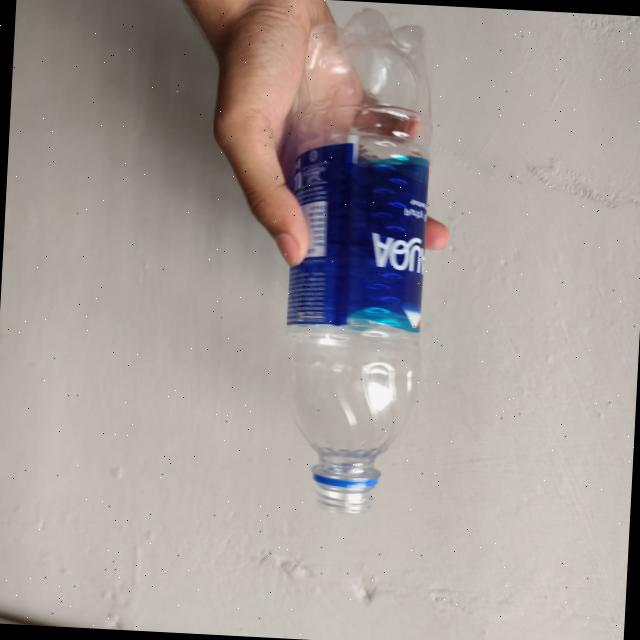bottle: (268, 17, 452, 517)
label: (282, 138, 436, 342)
